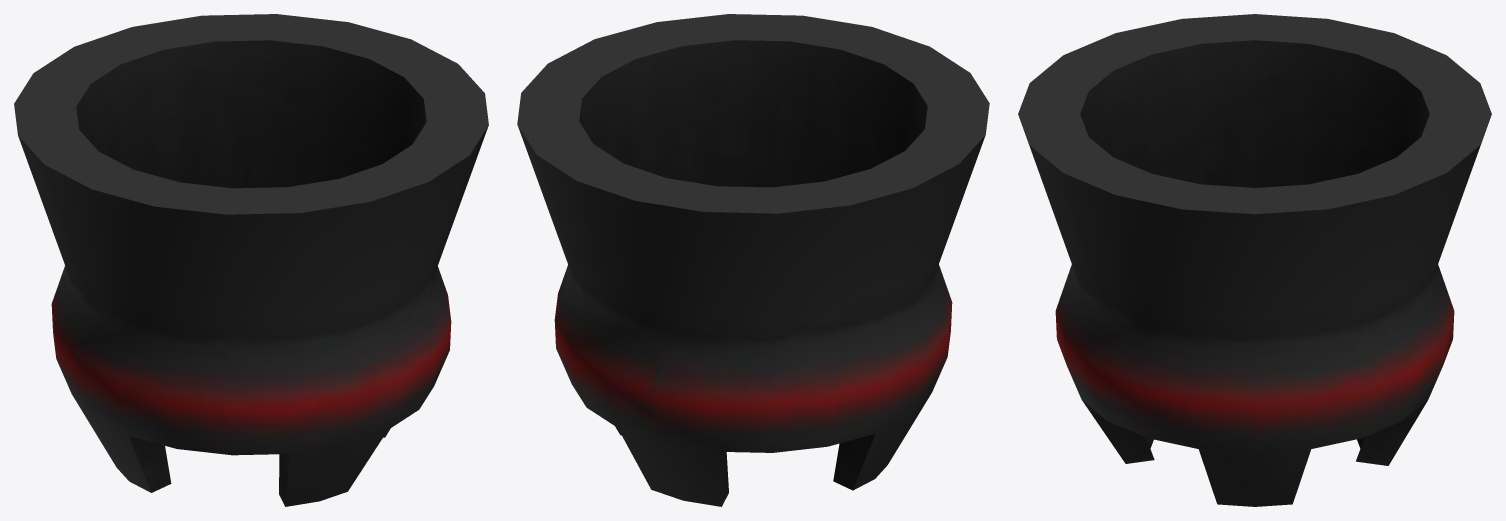
The model's file is TimeMachineTopExport.fbx.
3 renders of one model, left to right at view 1: azimuth 30°, elevation 25°; view 2: azimuth 150°, elevation 25°; view 3: azimuth 270°, elevation 25°, orthographic.
Visible parts, largest first — view 1: pPipe3; view 2: pPipe3; view 3: pPipe3.
Part boxes in pixels (x1=…): pPipe3: x1=14, y1=14, x2=488, y2=506; pPipe3: x1=517, y1=14, x2=989, y2=506; pPipe3: x1=1018, y1=14, x2=1491, y2=506.
Bounding box in the file's own units: 12.24 × 9.54 × 12.24.
